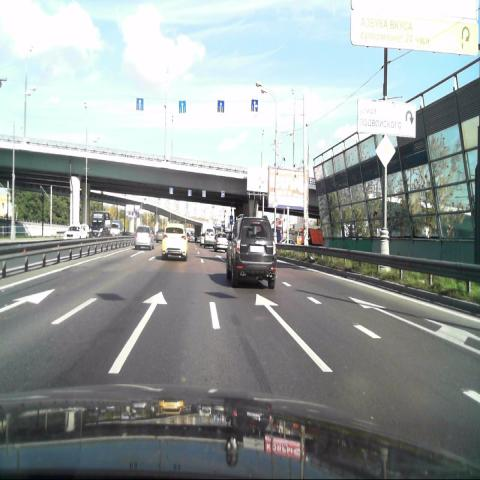2_1: (376, 133, 396, 168)
5_15_2: (216, 99, 224, 115), (134, 97, 142, 110), (251, 99, 258, 113), (178, 102, 186, 114)
